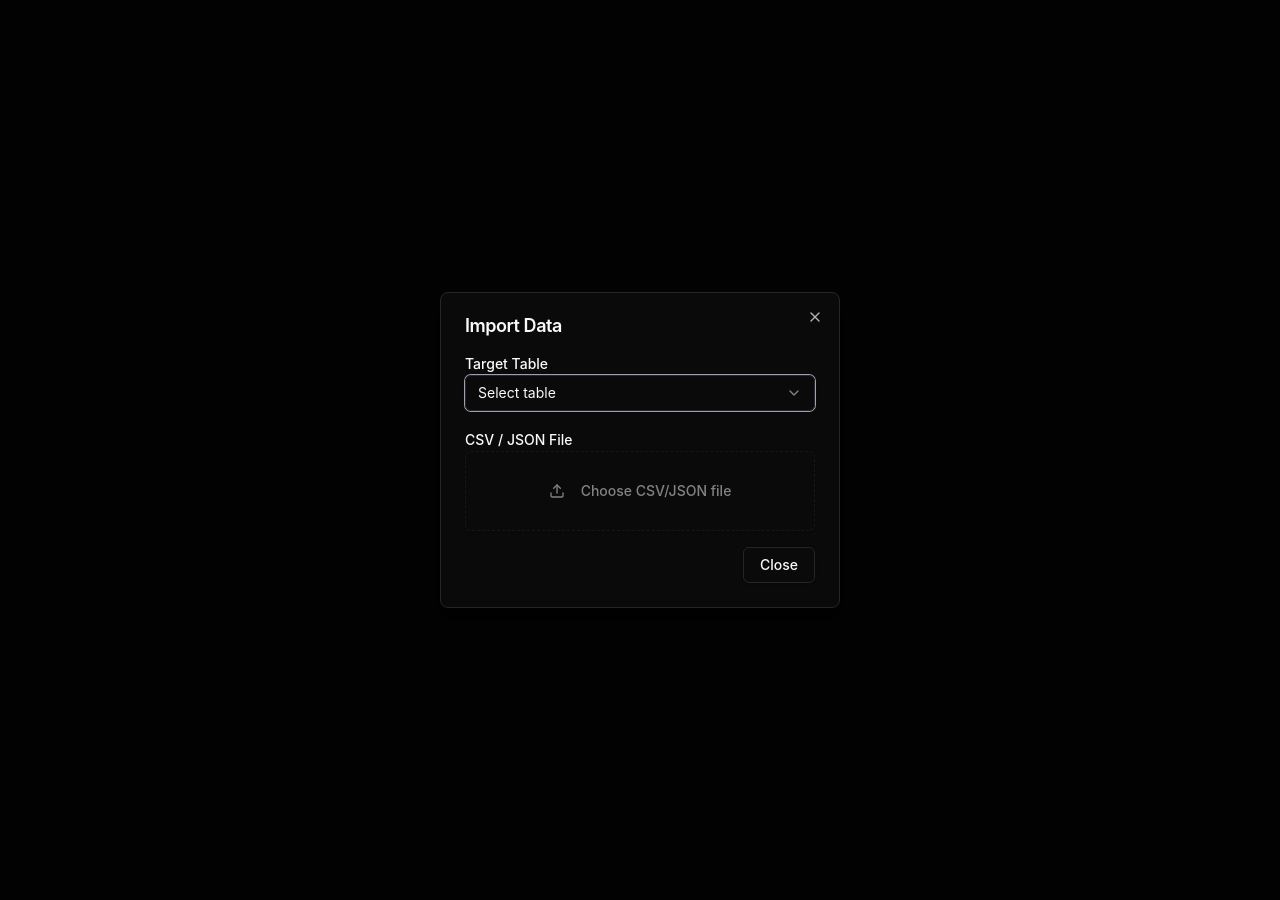
Test: enables file upload button when table selected
Click the dropdown "Select table". click: (517, 392)
box: x1=465 y1=375 x2=815 y2=411
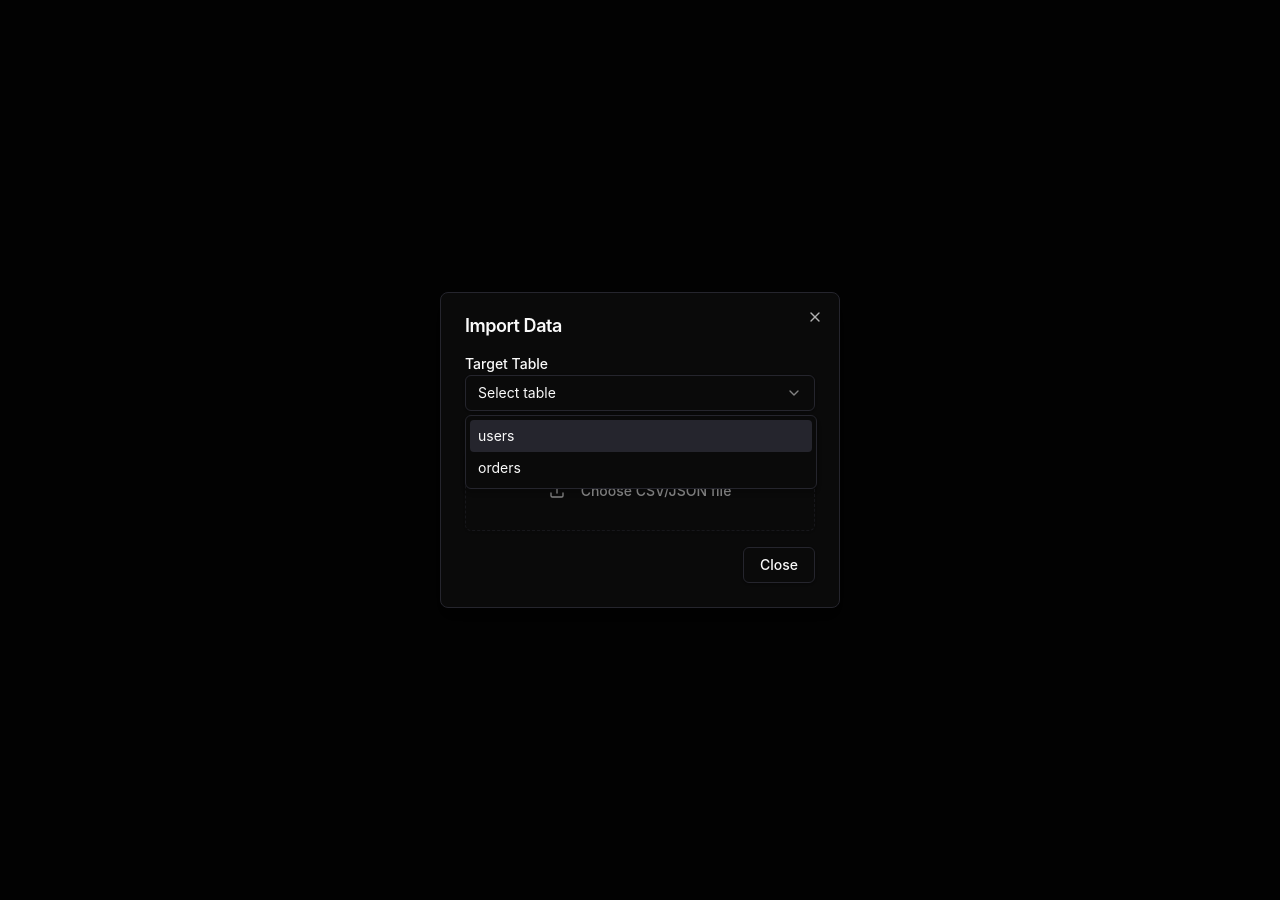
Click the option "users". click: (496, 436)
box: x1=470 y1=420 x2=812 y2=452
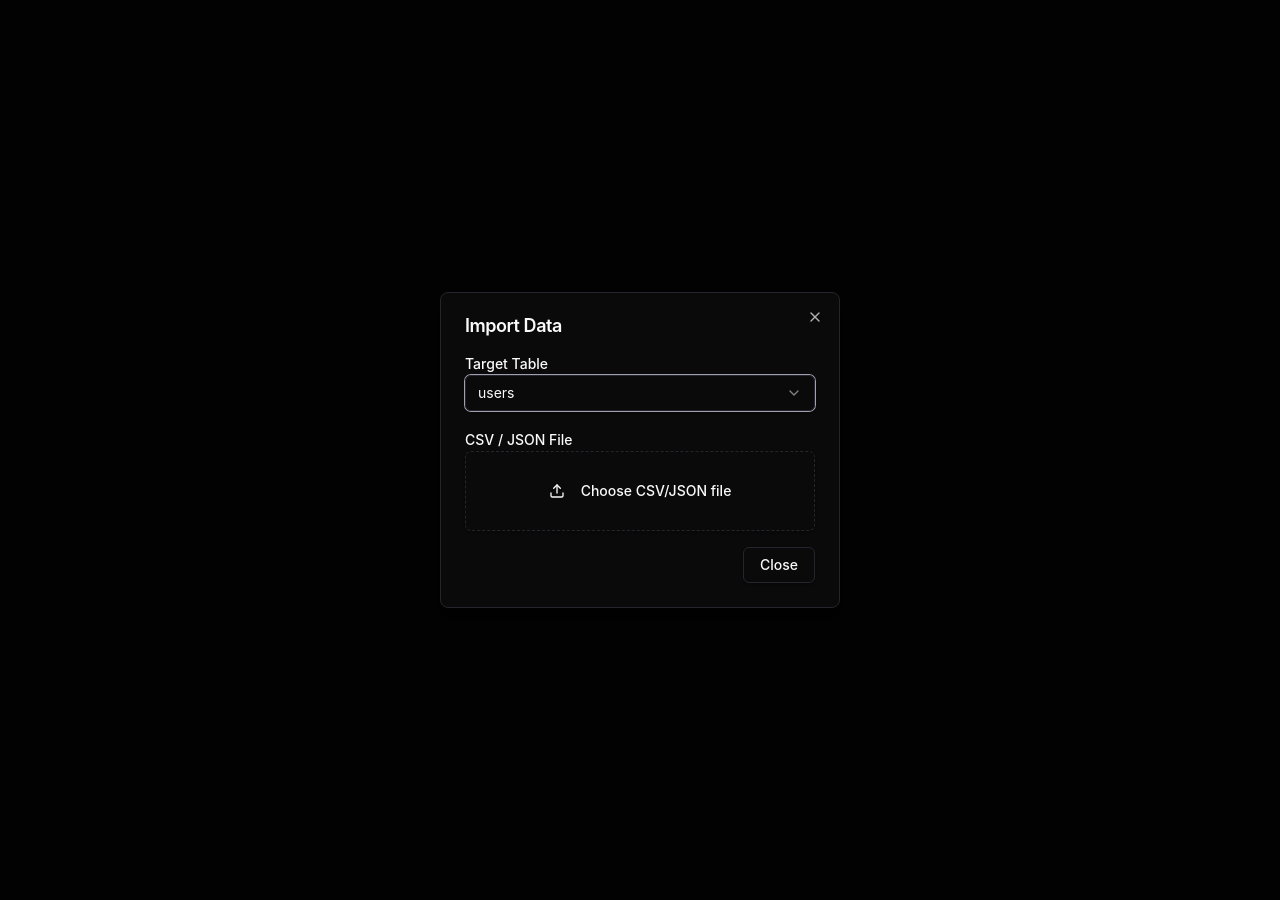
Expected: the button "Choose CSV/JSON file" is enabled, x1=465 y1=451 x2=815 y2=531
